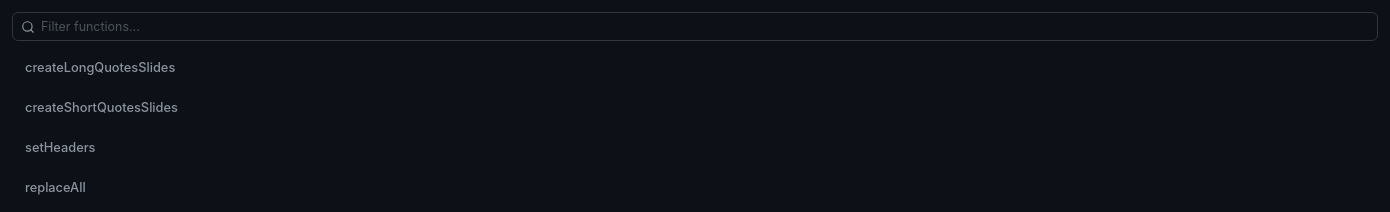
Scenario: FunctionSelector › filters the list when search query is typed
Type "long" into the field with placeholder "Filter functions...".
click(695, 26); type("long")  # box [12, 12, 1378, 41]
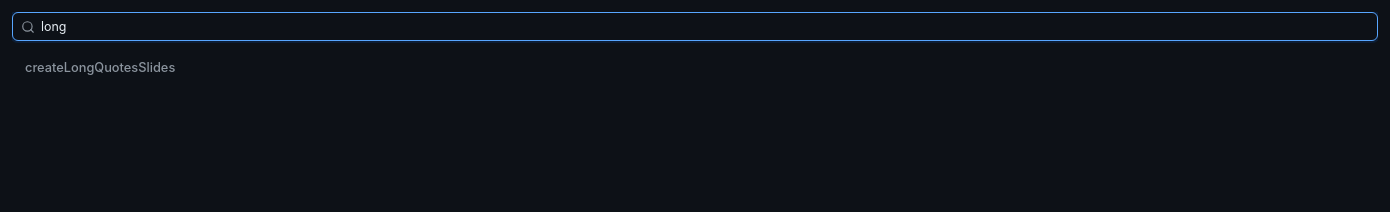
Expected: the text "createLongQuotesSlides" is shown, [25, 60, 175, 75]
Expected: the button "replaceAll" is gone
